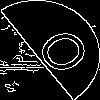O: (25, 25, 94, 84)
